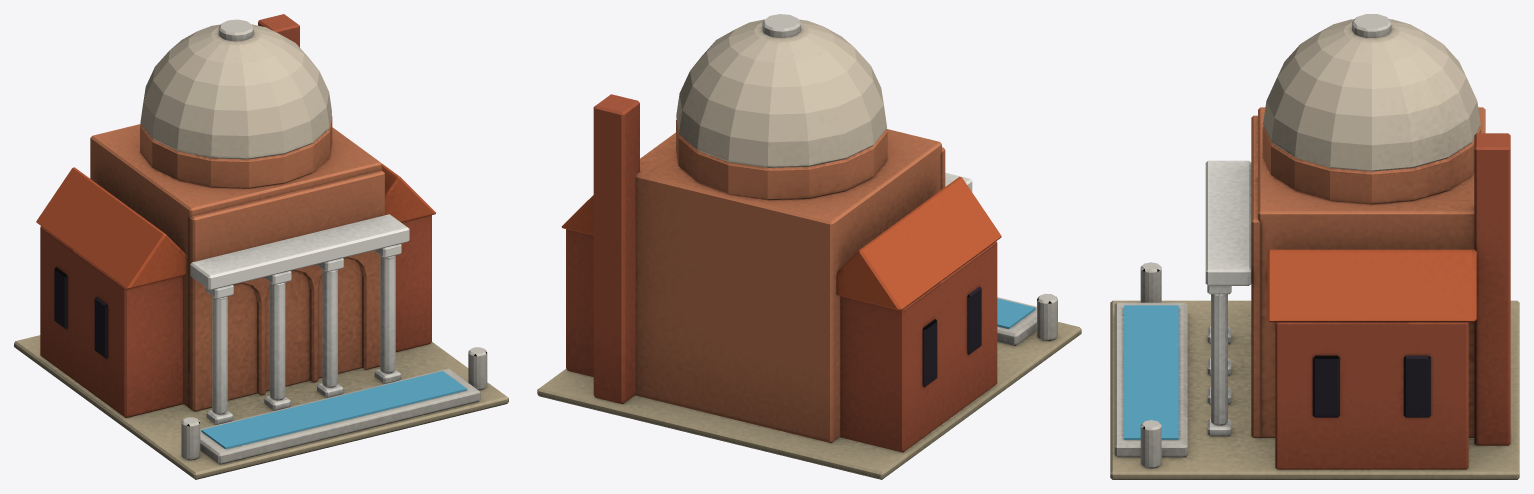
File: termy.glb
3 renders of one model, left to right at view 1: azimuth 30°, elevation 25°; view 2: azimuth 150°, elevation 25°; view 3: azimuth 270°, elevation 25°, orthographic. The views are drawn at different scales.
Visible parts, largest first — view 1: termy, anim_woda_basen; view 2: termy, anim_woda_basen; view 3: termy, anim_woda_basen.
Boxes of the visible parts, bbox=[...] form: termy: bbox=[14, 14, 508, 479]; anim_woda_basen: bbox=[201, 371, 466, 449]; termy: bbox=[537, 14, 1081, 479]; anim_woda_basen: bbox=[997, 298, 1035, 328]; termy: bbox=[1110, 14, 1519, 479]; anim_woda_basen: bbox=[1124, 305, 1178, 439].
Size of the model in its own units: 1.8 by 1.81 by 1.8.
2 materials, 1 textured.
